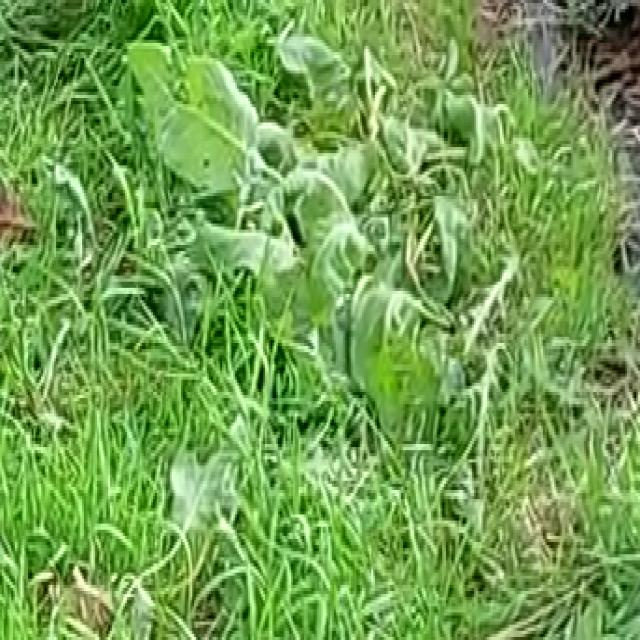organic waste: (308, 95, 584, 533), (149, 46, 444, 364)
